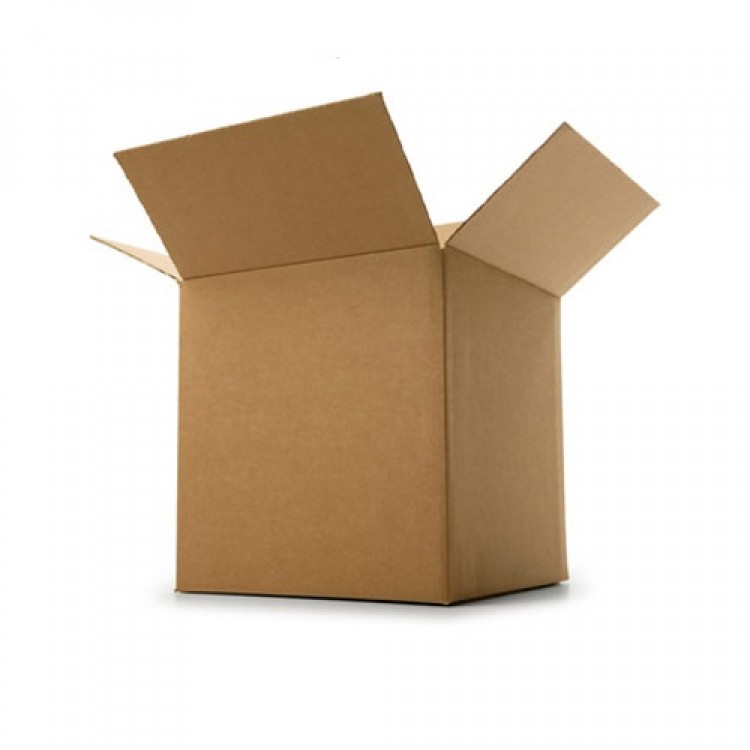Rec_Paper: (62, 83, 643, 627)
